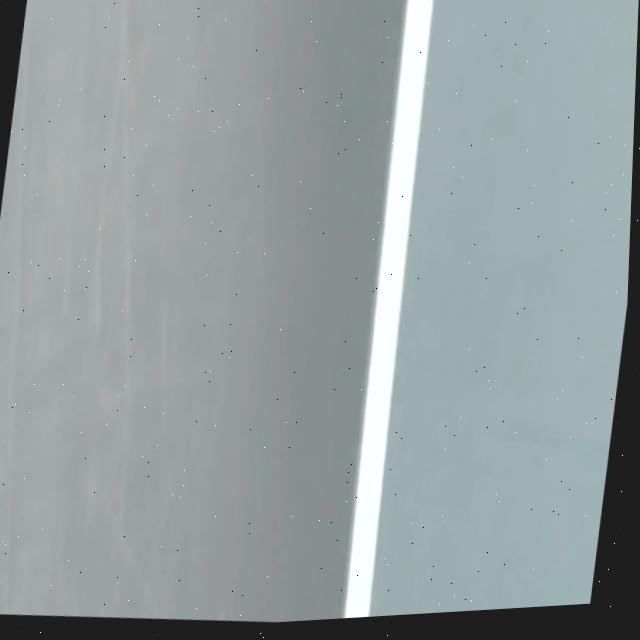left: (344, 0, 434, 618)
